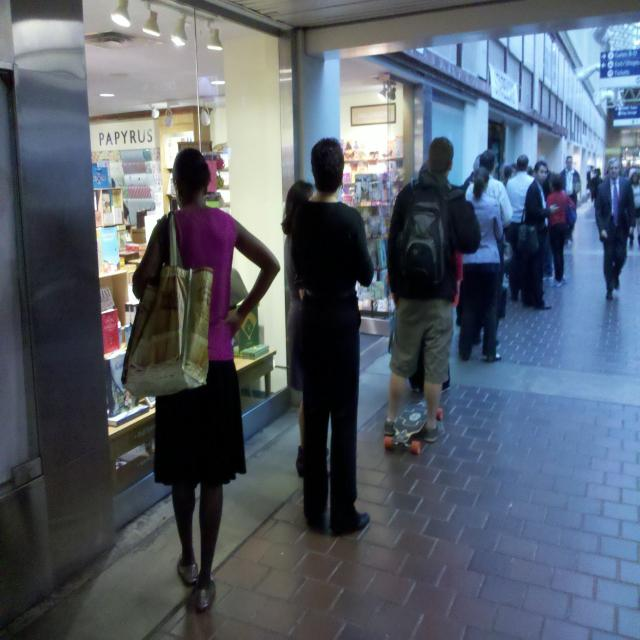body: (130, 145, 281, 614), (284, 135, 376, 539), (381, 135, 483, 446), (383, 152, 465, 396), (282, 179, 332, 481), (466, 147, 514, 351), (458, 166, 503, 362), (593, 156, 637, 302), (521, 160, 559, 311), (505, 152, 536, 305), (546, 172, 576, 289), (559, 155, 581, 246), (628, 167, 640, 249), (458, 153, 482, 192), (586, 164, 604, 205), (498, 238, 506, 329), (540, 154, 554, 190), (453, 291, 462, 325), (502, 157, 513, 182), (621, 161, 635, 179), (474, 318, 483, 344), (526, 165, 534, 176)
